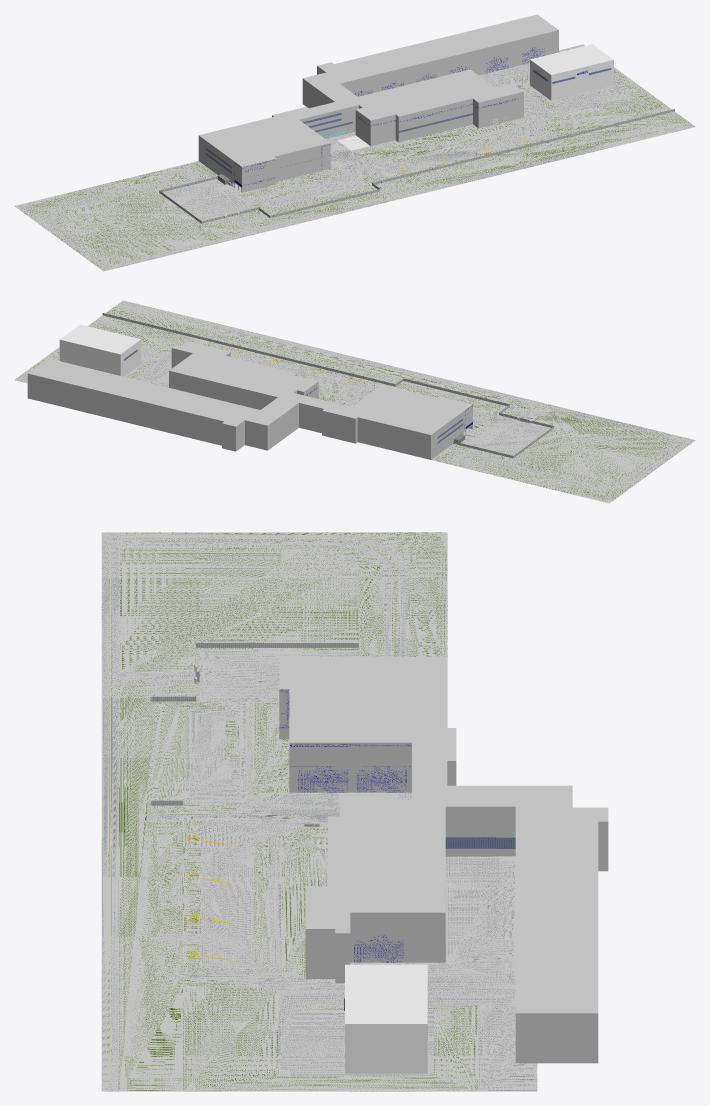
Rendered from usine (1).glb.
3 views of the same model, one above another, from view 1: azimuth 30°, elevation 25°; view 2: azimuth 150°, elevation 25°; view 3: azimuth 270°, elevation 25° (orthographic). The views are drawn at different scales.
Visible parts, largest first — view 1: instance_0, instance_0.026, instance_0.012, instance_0.030, instance_0.028, instance_0.051, SketchUp.003, instance_0.062, instance_0.011, instance_0.027, instance_0.007, instance_0.010 (+3 smaller); view 2: instance_0, instance_0.026, instance_0.012, instance_0.028, SketchUp.003, instance_0.030, instance_0.051, instance_0.062, instance_0.027, instance_0.060, instance_0.029, instance_0.070; view 3: instance_0, instance_0.026, instance_0.030, instance_0.012, instance_0.028, instance_0.051, SketchUp.003, instance_0.062, instance_0.011, instance_0.007, instance_0.010, instance_0.060 (+4 smaller).
Part boxes in pixels (x1,y1,x2,y2): instance_0: (198, 14, 558, 192); instance_0.026: (237, 67, 690, 228); instance_0.012: (55, 161, 245, 264); instance_0.030: (326, 44, 632, 189); instance_0.028: (43, 123, 695, 271); instance_0.051: (162, 170, 367, 220); SketchUp.003: (530, 44, 613, 100); instance_0.062: (14, 170, 162, 267); instance_0.011: (357, 117, 523, 158); instance_0.027: (239, 109, 674, 218); instance_0.007: (237, 168, 345, 198); instance_0.010: (385, 127, 519, 162); instance_0: (28, 341, 474, 459); instance_0.026: (29, 303, 536, 420); instance_0.012: (431, 409, 677, 483); instance_0.028: (119, 300, 695, 488); SketchUp.003: (59, 324, 141, 376); instance_0.030: (14, 340, 393, 406); instance_0.051: (460, 407, 549, 455); instance_0.062: (467, 443, 690, 503); instance_0.027: (102, 313, 516, 419); instance_0.060: (490, 441, 684, 487); instance_0.029: (453, 420, 553, 458); instance_0.070: (122, 302, 679, 438); instance_0: (279, 656, 608, 1063); instance_0.026: (119, 679, 477, 1091); instance_0.030: (146, 792, 537, 1091); instance_0.012: (119, 545, 383, 671); instance_0.028: (101, 532, 406, 1091); instance_0.051: (189, 650, 358, 806); SketchUp.003: (345, 964, 427, 1073); instance_0.062: (119, 532, 447, 656); instance_0.011: (282, 826, 327, 978); instance_0.007: (252, 701, 289, 801); instance_0.010: (254, 839, 270, 964); instance_0.060: (119, 538, 398, 656).
Size of the model in its own units: 1048 by 44.59 by 401.
Materials: 16 (8 with a texture image).
